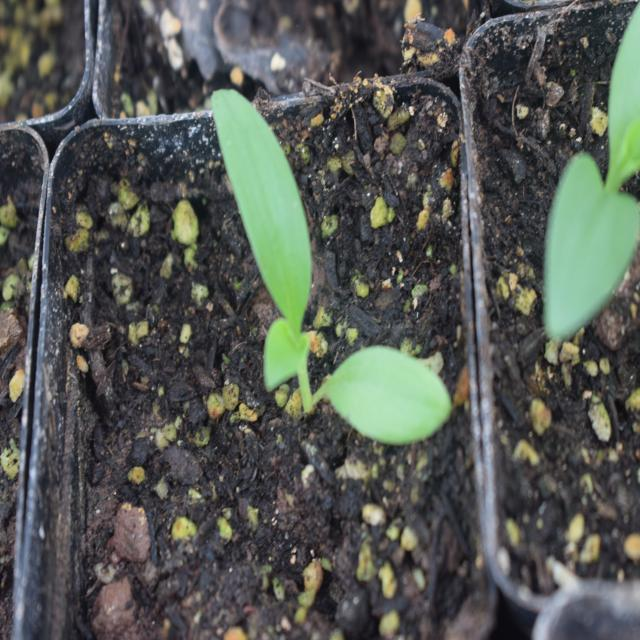Common Dayflower: (189, 83, 455, 440)
